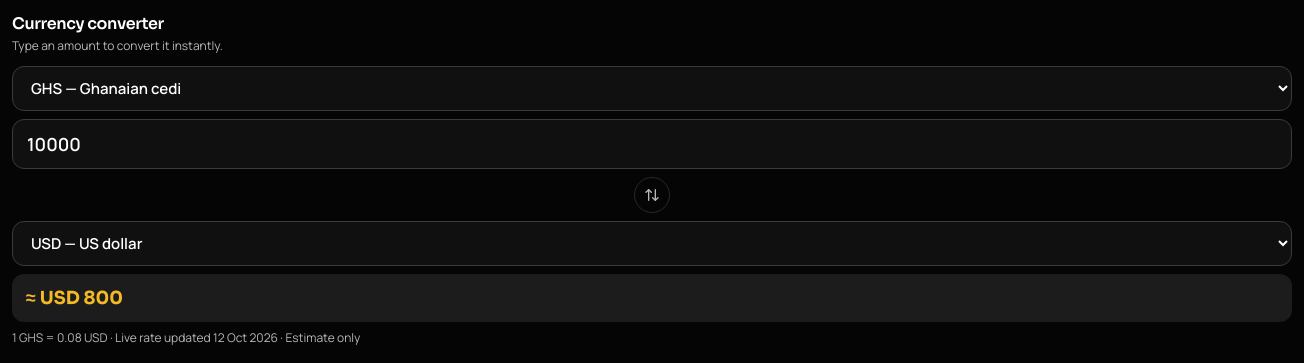
it: CurrencyConverter › converts instantly as the visitor types and changes currencies
Expected: the text "≈ USD 800" is shown, [12,274,1292,322]
Expected: the text "1 GHS = 0.08 USD · Live rate updated 12 Oct 2026 · Estimate only" is shown, [12,329,360,346]
Replace the text in the number field named "Amount" with "2500" at x=652, y=144, box [12,119,1292,169]
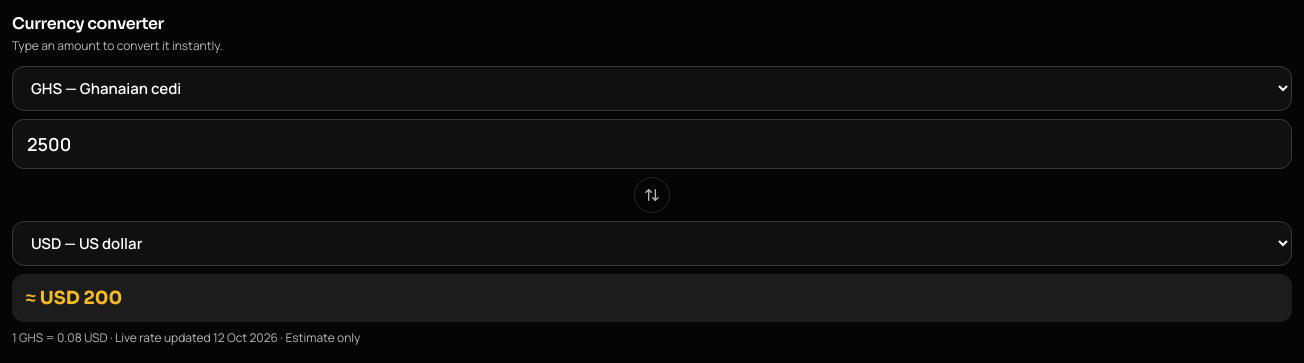
Now the text "≈ USD 200" is shown, box [12,274,1292,322]
Select "NGN — Nigerian naira" in the 2nd dropdown named "To currency" at x=652, y=244, box [12,221,1292,266]
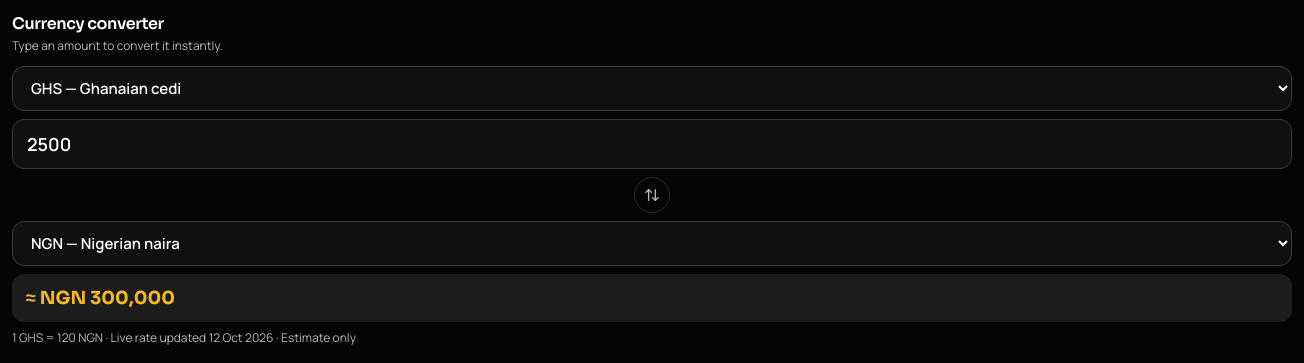
Now the text "≈ NGN 300,000" is shown, box [12,274,1292,322]
